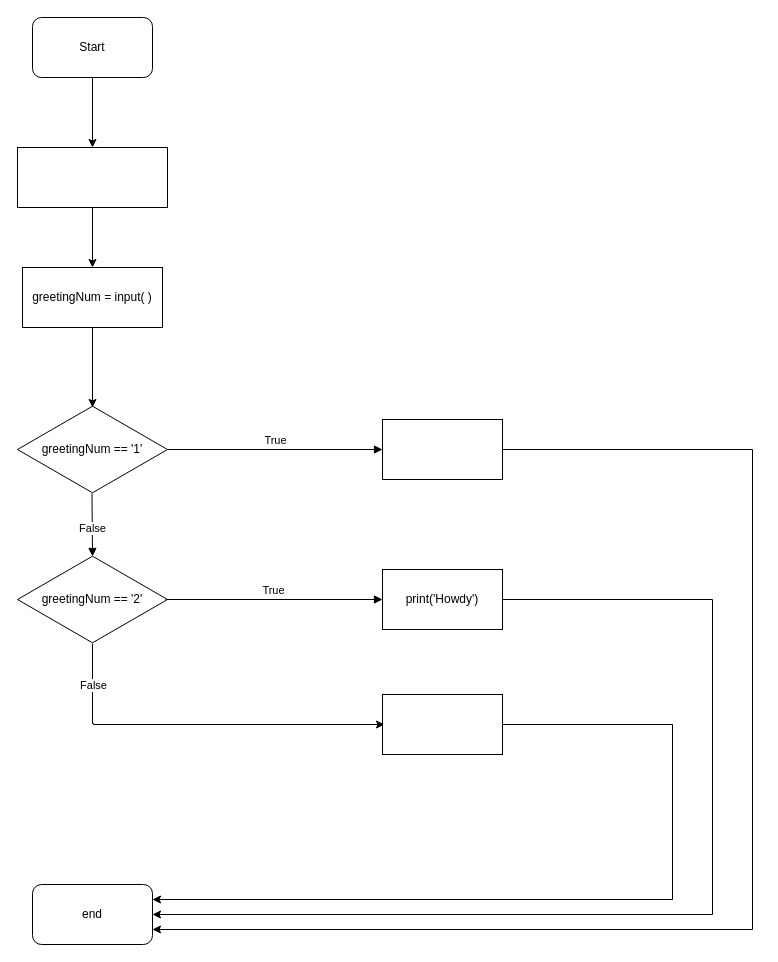
This 778x962 diagram has some shape labels left out. Here are the shapes that lost their labels. From the top down, the centre of each, then its label:
[92,177]: print('Enter a number: ')
[442,449]: print('Hello')
[442,724]: print('Greetings!')
